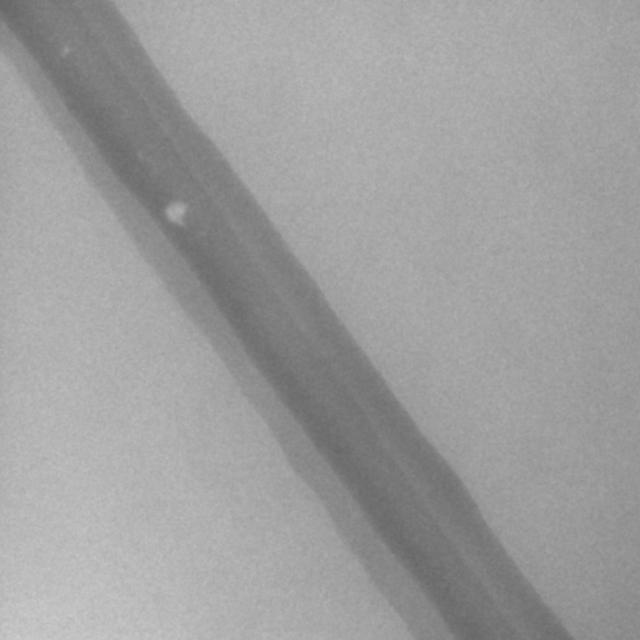air hole: (61, 44, 69, 56)
slag inclusion: (164, 199, 188, 227)
